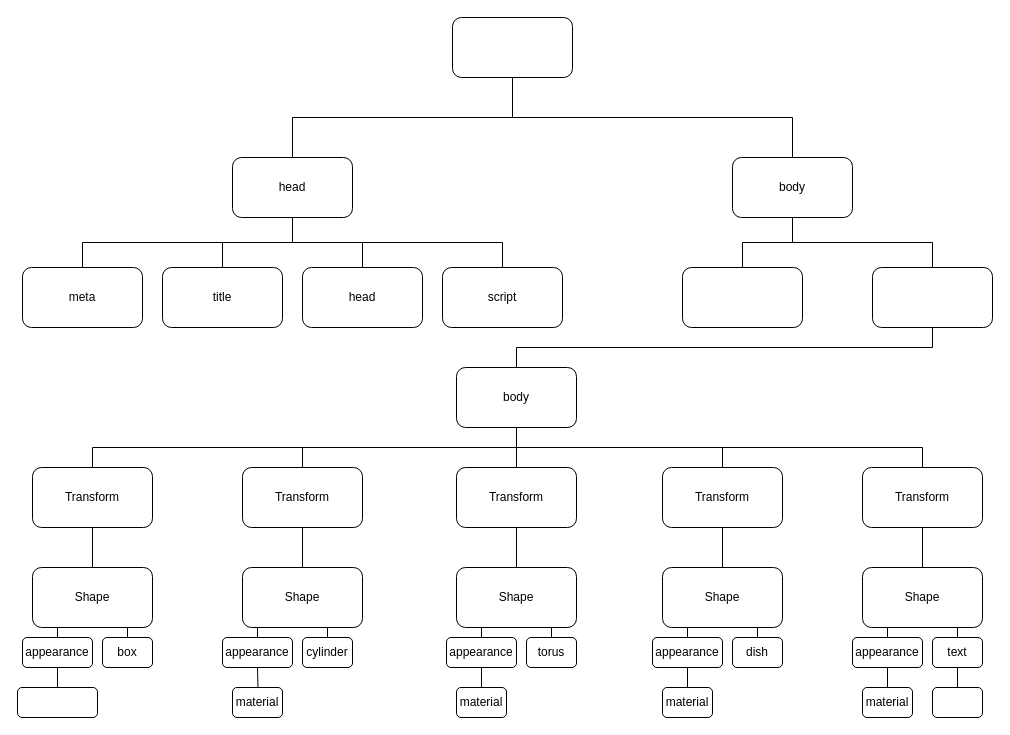
Image size: 1010x735. Some labels were removed from this diagram. The box of each missing label's shape, as (x1, y1, x2, y2) in pixels:
FontSize: (932, 686, 982, 718)
h1: (682, 266, 802, 328)
html: (452, 16, 572, 78)
ImageTexture: (16, 686, 98, 718)
X3D: (872, 266, 992, 328)
